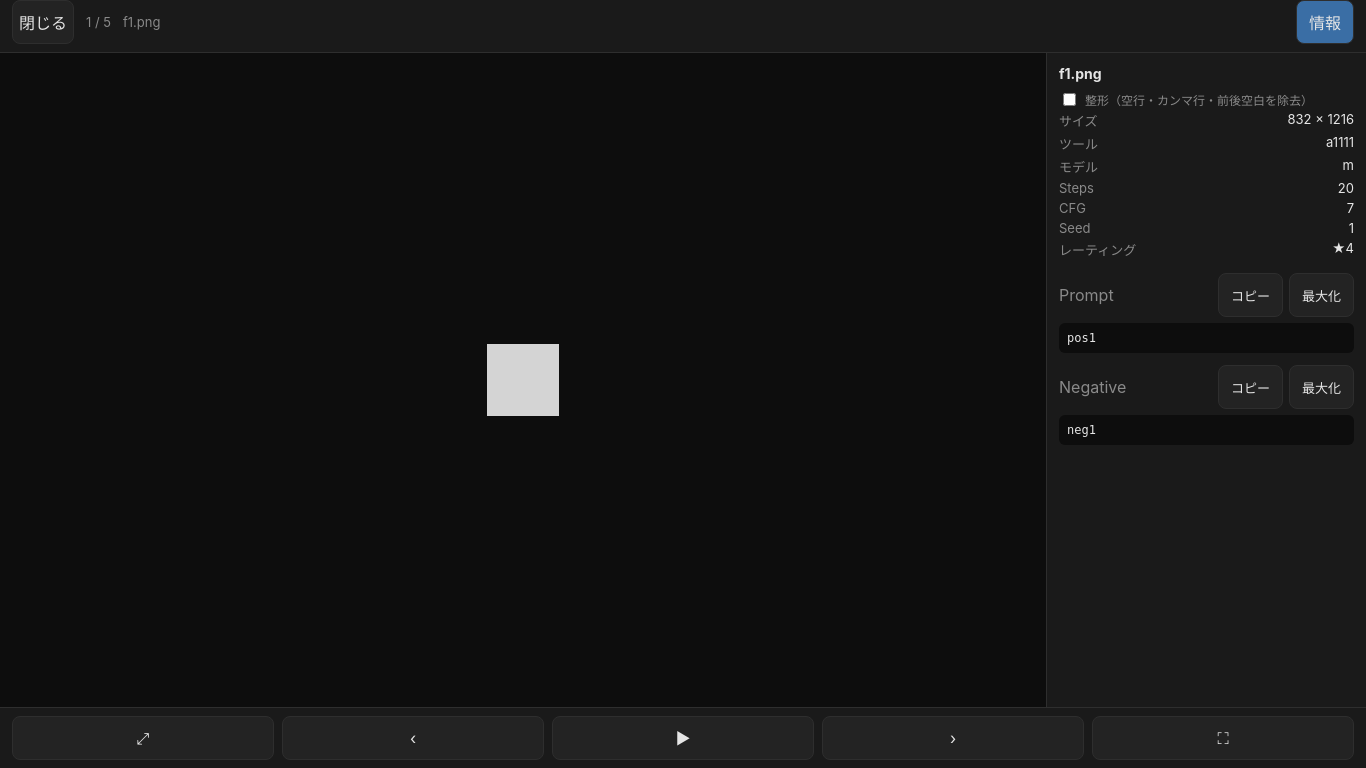
Test: Viewer の情報パネル › 最大化は送っても保ち、そのブロックが無い画像では通常表示、戻れば再び最大化
Check: the text "neg1" is shown, box x1=1059 y1=415 x2=1354 y2=445
Click the button with aria-label "Negativeを最大化" at (1322,387), box x1=1289 y1=365 x2=1354 y2=409
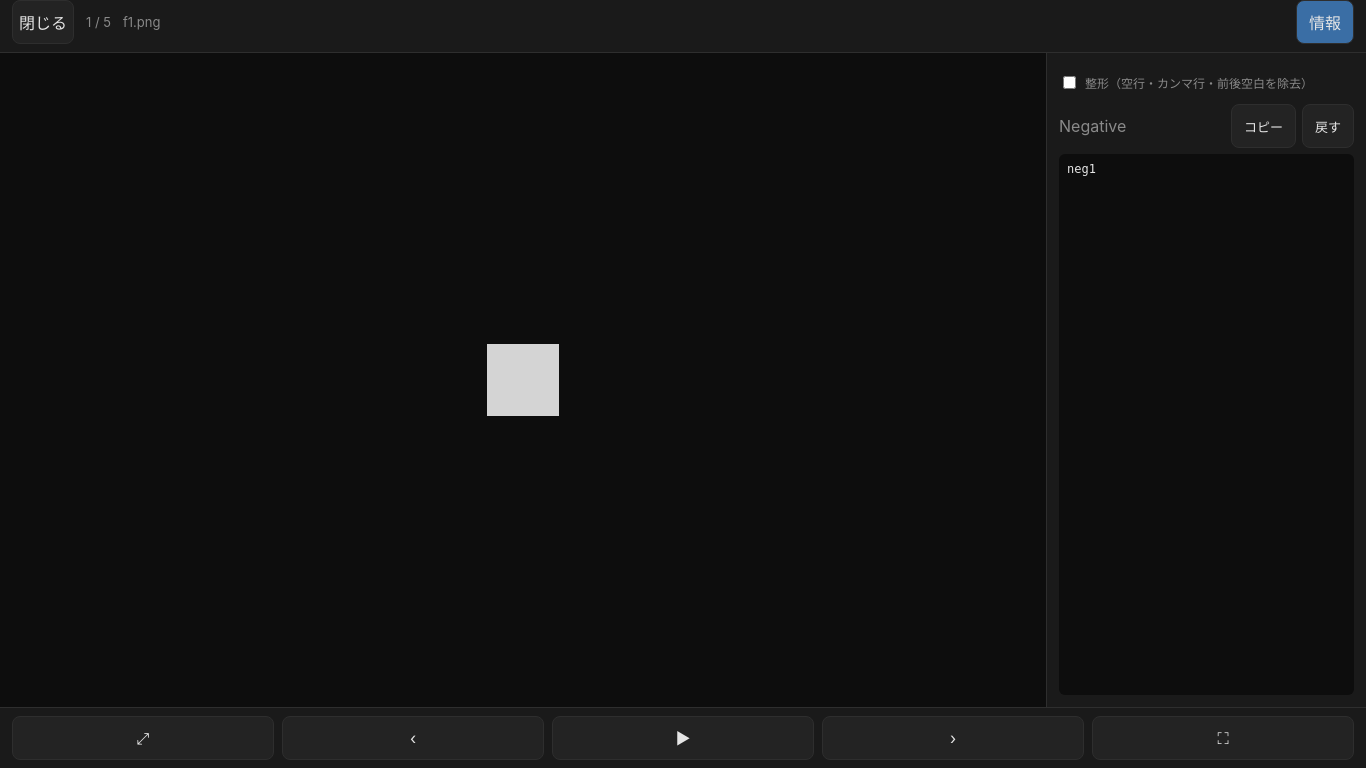
Check: the text "pos1" is gone
// id 2 は Negative が無い。
Press ArrowRight
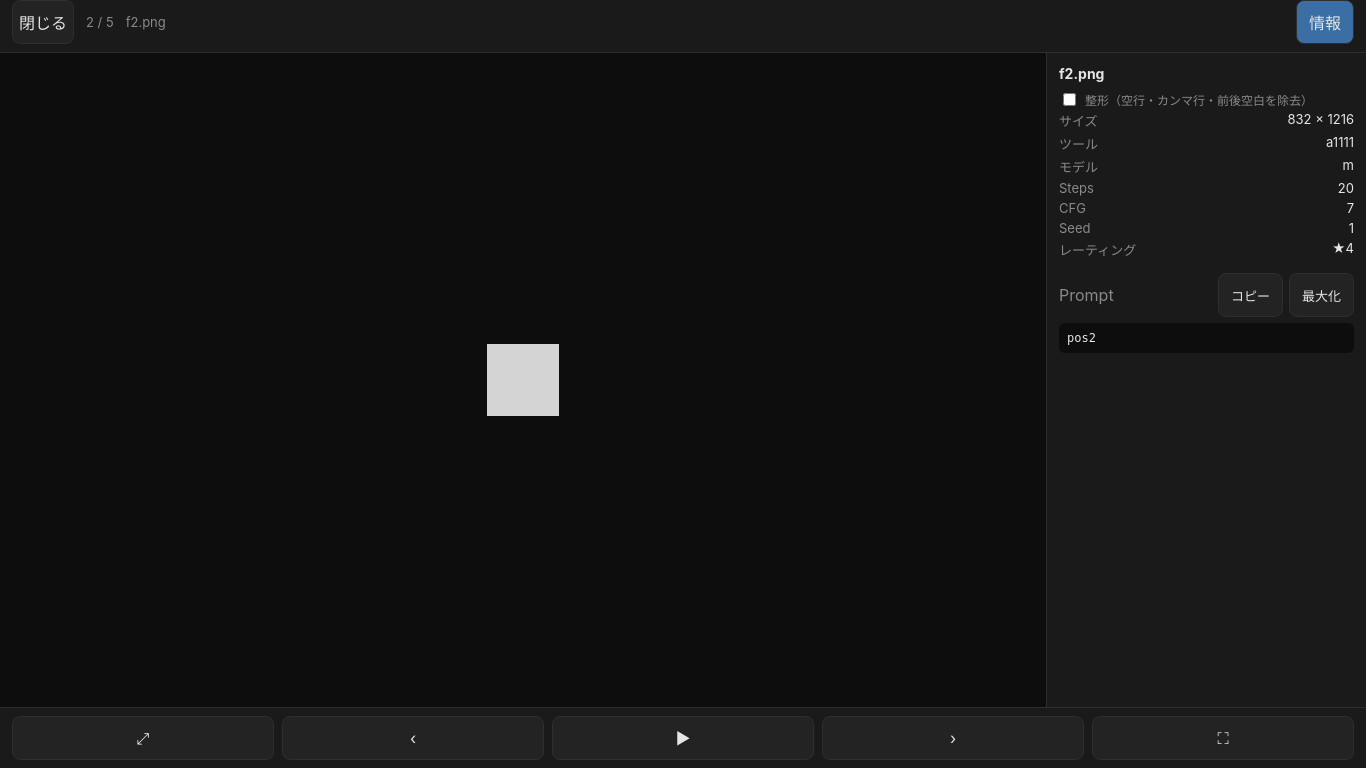
Check: the text "pos2" is shown, box x1=1059 y1=323 x2=1354 y2=353
Press ArrowRight
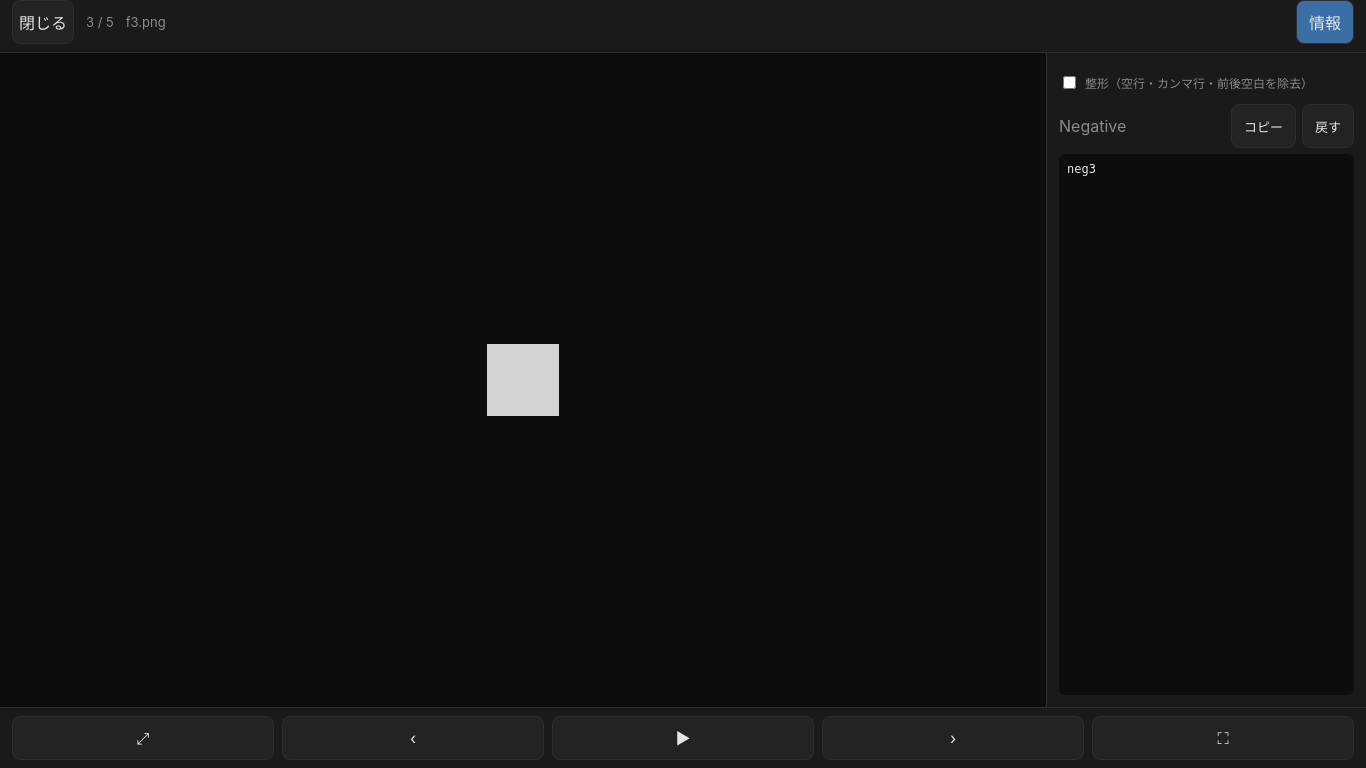
Check: the text "pos3" is not shown
Check: the text "neg3" is shown, box x1=1059 y1=154 x2=1354 y2=695
Click the button with aria-label "Negativeを元に戻す" at (1328,126), box x1=1302 y1=104 x2=1354 y2=148
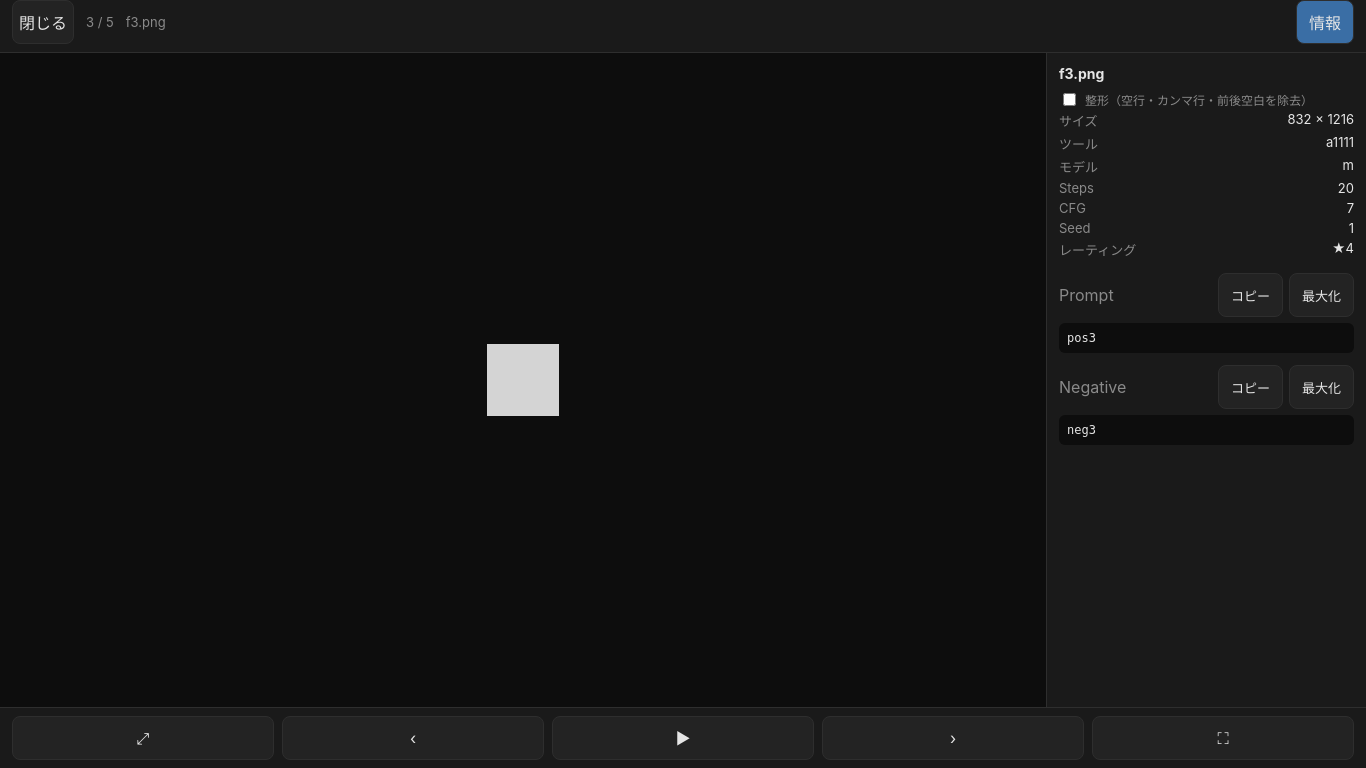
Check: the text "pos3" is shown, box x1=1059 y1=323 x2=1354 y2=353
